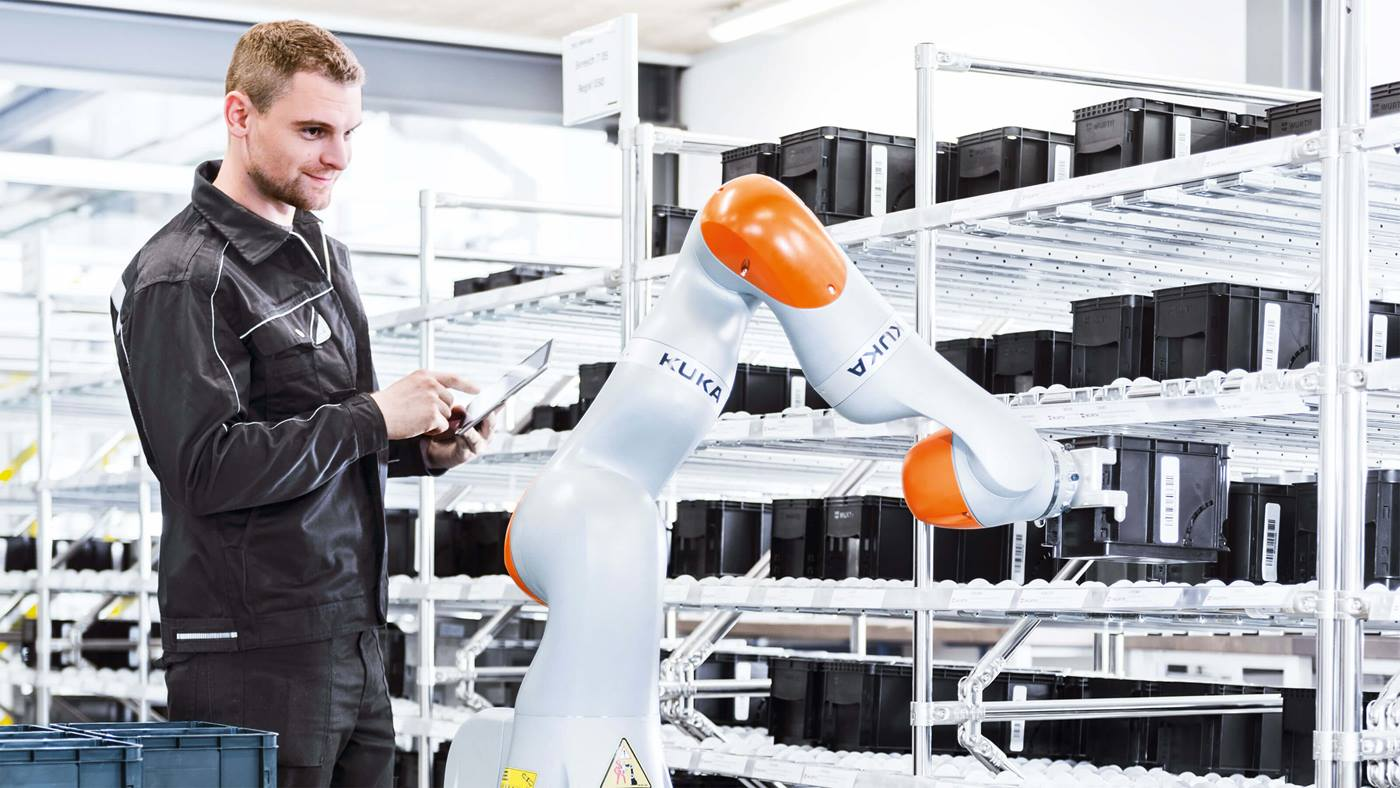person: (108, 18, 493, 788)
robot: (501, 172, 1130, 788)
